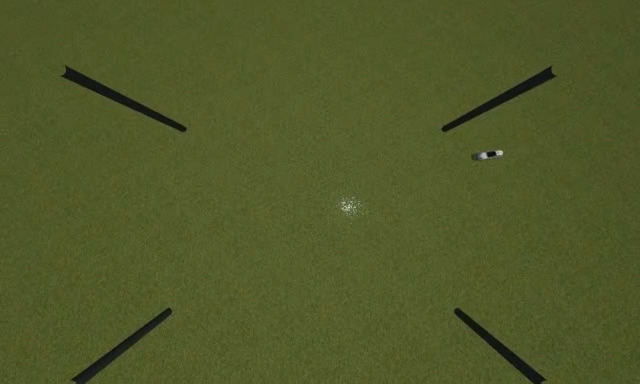Car: (476, 148, 505, 159)
